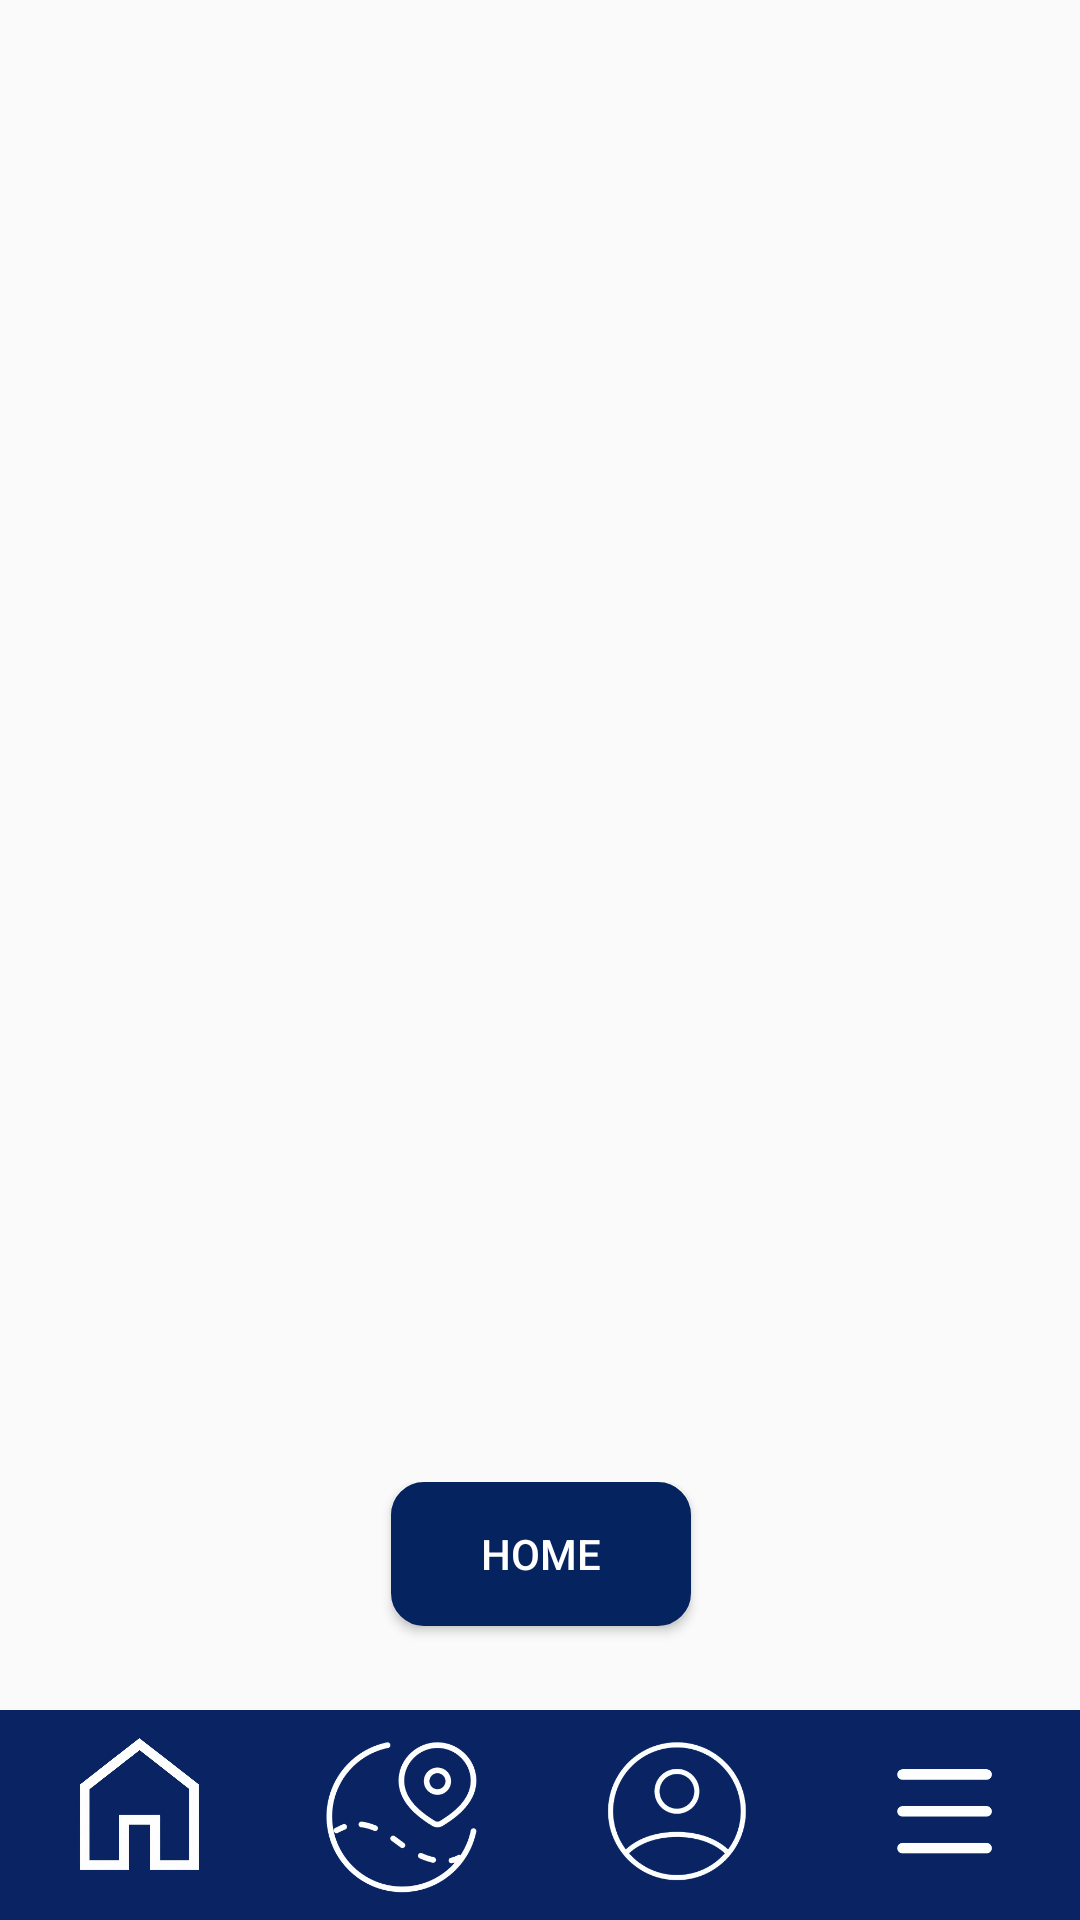

Named icons in this screenshot (1080px x 1920px) and their centers, point (x, y):
Mapa: point (401, 1817)
Menu: point (944, 1811)
Perfil: point (677, 1811)
